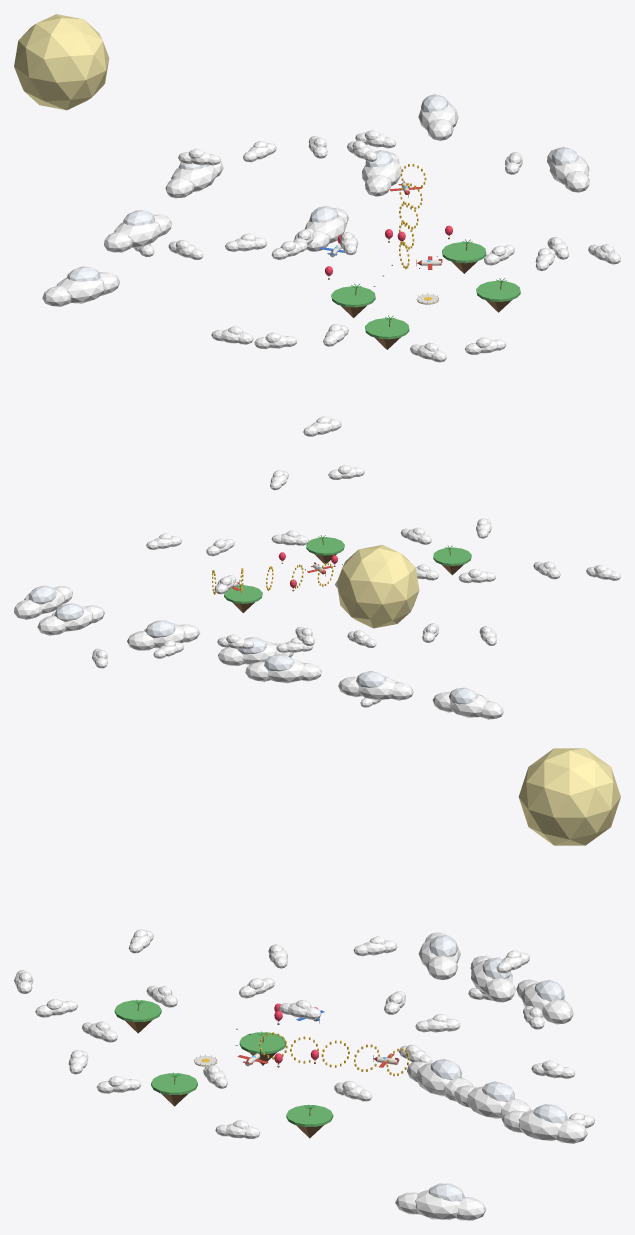
File: Plane_World.fbx
3 views of the same model, one above another, from view 1: azimuth 30°, elevation 25°; view 2: azimuth 150°, elevation 25°; view 3: azimuth 270°, elevation 25° (orthographic). The views are drawn at different scales.
Parts seen in each view (by area): view 1: Sun.001, Cloud.023, Cloud.024, Cloud.029, Cloud.025, Cloud.028, Cloud.026, Cloud.027, Island.004, Island.001, Island.003, Island.002; view 2: Sun.001, Cloud.025, Cloud.024, Cloud.023, Cloud.027, Cloud.028, Cloud.029, Cloud.026, Island.003, Island.002, Island.004, Cloud.019 (+8 smaller); view 3: Sun.001, Cloud.029, Cloud.028, Cloud.027, Cloud.025, Cloud.026, Cloud.023, Cloud.024, Island.004, Island.003, Island.002, Island.001.
Boxes of the visible parts, left/top/right/bottom form: Sun.001: left=14, top=14, right=109, bottom=110; Cloud.023: left=42, top=266, right=119, bottom=306; Cloud.024: left=104, top=210, right=171, bottom=252; Cloud.029: left=547, top=146, right=589, bottom=192; Cloud.025: left=165, top=161, right=223, bottom=198; Cloud.028: left=418, top=94, right=458, bottom=140; Cloud.026: left=305, top=206, right=348, bottom=251; Cloud.027: left=362, top=150, right=401, bottom=196; Island.004: left=442, top=242, right=486, bottom=273; Island.001: left=331, top=286, right=375, bottom=317; Island.003: left=365, top=318, right=409, bottom=349; Island.002: left=476, top=280, right=520, bottom=312; Sun.001: left=336, top=545, right=419, bottom=628; Cloud.025: left=245, top=654, right=321, bottom=683; Cloud.024: left=338, top=671, right=413, bottom=700; Cloud.023: left=432, top=687, right=503, bottom=719; Cloud.027: left=127, top=620, right=199, bottom=650; Cloud.028: left=37, top=603, right=104, bottom=635; Cloud.029: left=14, top=585, right=72, bottom=619; Cloud.026: left=218, top=637, right=293, bottom=665; Island.003: left=433, top=547, right=471, bottom=575; Island.002: left=306, top=537, right=344, bottom=563; Island.004: left=224, top=585, right=262, bottom=612; Cloud.019: left=271, top=530, right=308, bottom=545; Sun.001: left=518, top=748, right=620, bottom=845; Cloud.029: left=395, top=1183, right=486, bottom=1220; Cloud.028: left=502, top=1104, right=587, bottom=1143; Cloud.027: left=454, top=1081, right=531, bottom=1118; Cloud.025: left=516, top=979, right=573, bottom=1024; Cloud.026: left=407, top=1059, right=472, bottom=1101; Cloud.023: left=418, top=932, right=460, bottom=979; Cloud.024: left=470, top=955, right=515, bottom=1002; Island.004: left=286, top=1105, right=333, bottom=1138; Island.003: left=114, top=1000, right=161, bottom=1033; Island.002: left=151, top=1073, right=197, bottom=1106; Island.001: left=239, top=1032, right=286, bottom=1064.
Bounding box in the file's own units: 254 × 104 × 233.
